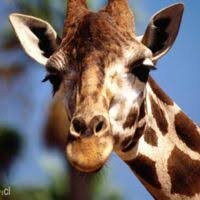Jirafa: (9, 1, 189, 184)
